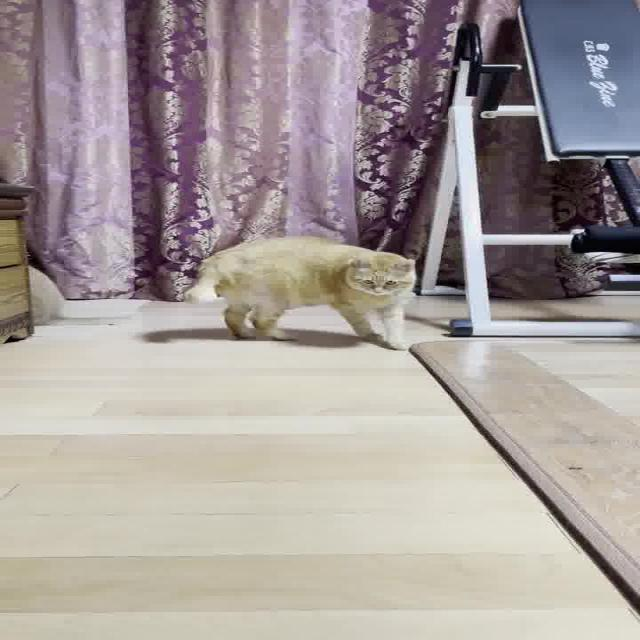cat: (142, 223, 477, 368)
